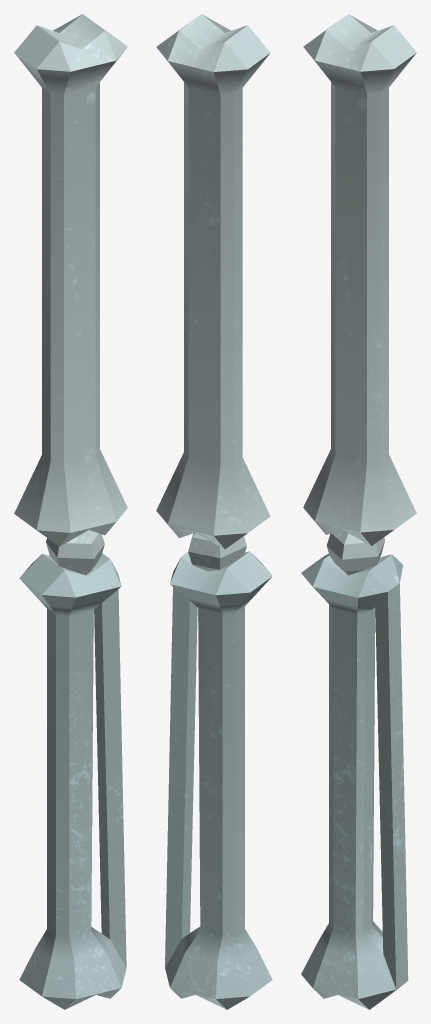
Rendered from BONES_R.obj.
3 views of the same model, side by side, from view 1: azimuth 30°, elevation 25°; view 2: azimuth 150°, elevation 25°; view 3: azimuth 330°, elevation 25° (orthographic).
Parts seen in each view (by area): view 1: leg_skl_pasted__lower_leg_bSG, pasted__lower_leg_b_pasted__lower_leg_bSG, leg_skl_pasted__lower_leg_bSG_1; view 2: leg_skl_pasted__lower_leg_bSG, pasted__lower_leg_b_pasted__lower_leg_bSG, leg_skl_pasted__lower_leg_bSG_1; view 3: leg_skl_pasted__lower_leg_bSG, pasted__lower_leg_b_pasted__lower_leg_bSG, leg_skl_pasted__lower_leg_bSG_1.
Part boxes in pixels (x1=…): leg_skl_pasted__lower_leg_bSG: x1=14, y1=14, x2=127, y2=546; pasted__lower_leg_b_pasted__lower_leg_bSG: x1=19, y1=553, x2=126, y2=1009; leg_skl_pasted__lower_leg_bSG_1: x1=46, y1=530, x2=104, y2=574; leg_skl_pasted__lower_leg_bSG: x1=156, y1=14, x2=270, y2=549; pasted__lower_leg_b_pasted__lower_leg_bSG: x1=165, y1=551, x2=272, y2=1009; leg_skl_pasted__lower_leg_bSG_1: x1=188, y1=533, x2=246, y2=571; leg_skl_pasted__lower_leg_bSG: x1=303, y1=14, x2=416, y2=545; pasted__lower_leg_b_pasted__lower_leg_bSG: x1=301, y1=553, x2=408, y2=1009; leg_skl_pasted__lower_leg_bSG_1: x1=326, y1=529, x2=384, y2=575.
Size of the model in its own units: 18.43 by 186 by 17.
Materials: 1 (1 with a texture image).
